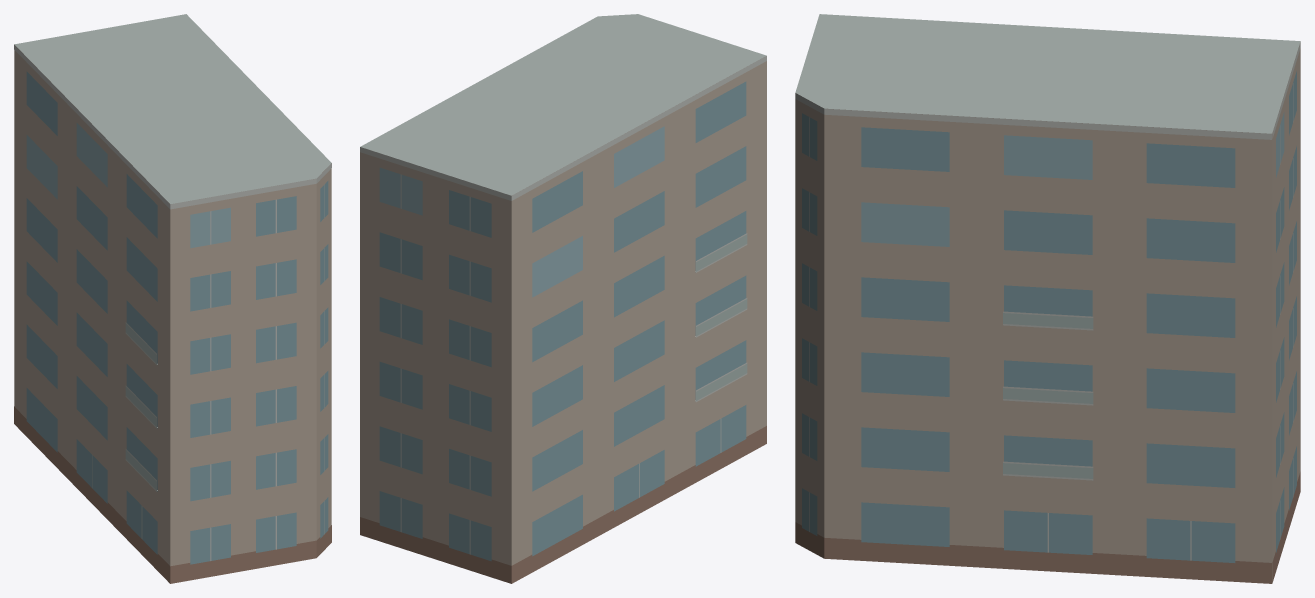
Rendered from survey-upis-32538825.glb.
3 views of the same model, side by side, from view 1: azimuth 30°, elevation 25°; view 2: azimuth 150°, elevation 25°; view 3: azimuth 270°, elevation 25° (orthographic). The views are drawn at different scales.
Parts seen in each view (by area): view 1: survey-upis-32538825.tmp; view 2: survey-upis-32538825.tmp; view 3: survey-upis-32538825.tmp.
Boxes of the visible parts, bbox=[...] form: survey-upis-32538825.tmp: bbox=[14, 14, 331, 583]; survey-upis-32538825.tmp: bbox=[360, 14, 766, 583]; survey-upis-32538825.tmp: bbox=[795, 14, 1300, 583].
Bounding box in the file's own units: 10.17 × 17.8 × 18.12.
